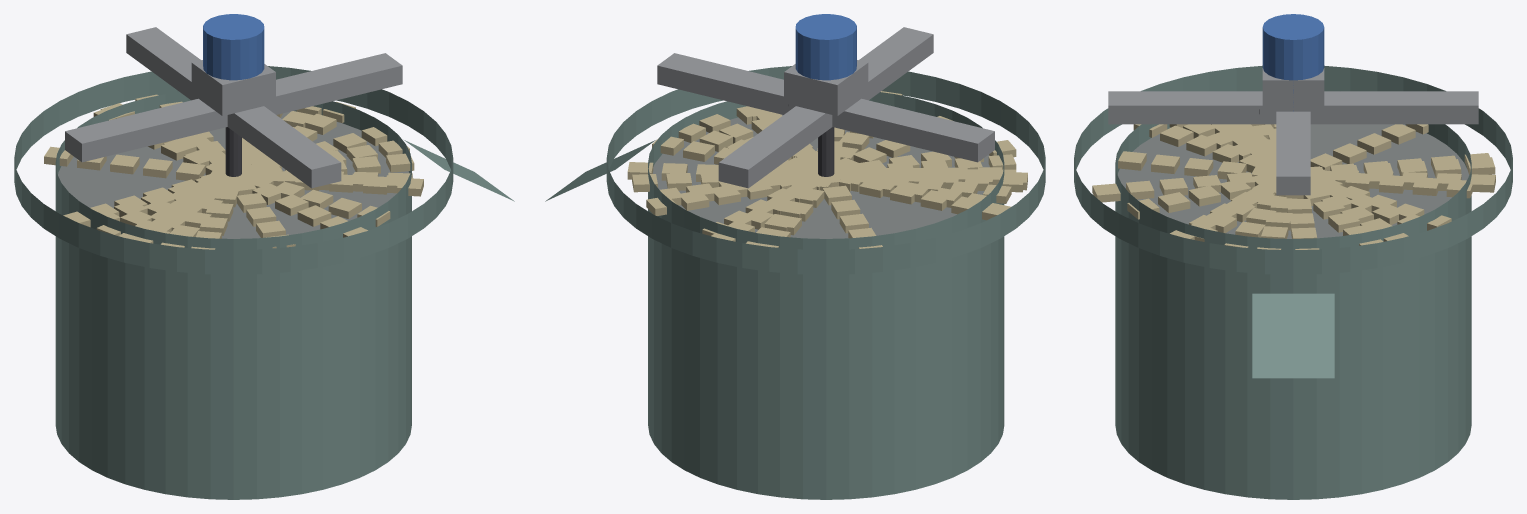
The model's file is EQ_FlotationCell.glb.
The picture shows the model from 3 angles, left to right: view 1: azimuth 30°, elevation 25°; view 2: azimuth 150°, elevation 25°; view 3: azimuth 270°, elevation 25°; orthographic projection.
Visible parts, largest first — view 1: FC_Tank, FC_Froth_Flow, FC_Agitator; view 2: FC_Tank, FC_Froth_Flow, FC_Agitator; view 3: FC_Tank, FC_Froth_Flow.
Part boxes in pixels (box(x1,y1,x2,y2)): FC_Tank: box(14, 14, 514, 499); FC_Froth_Flow: box(44, 94, 423, 249); FC_Agitator: box(225, 127, 241, 176); FC_Tank: box(545, 14, 1045, 499); FC_Froth_Flow: box(627, 91, 1027, 248); FC_Agitator: box(788, 104, 834, 176); FC_Tank: box(1074, 14, 1512, 499); FC_Froth_Flow: box(1092, 124, 1495, 249).
Bounding box in the file's own units: 7.6 × 6.4 × 6.4.
